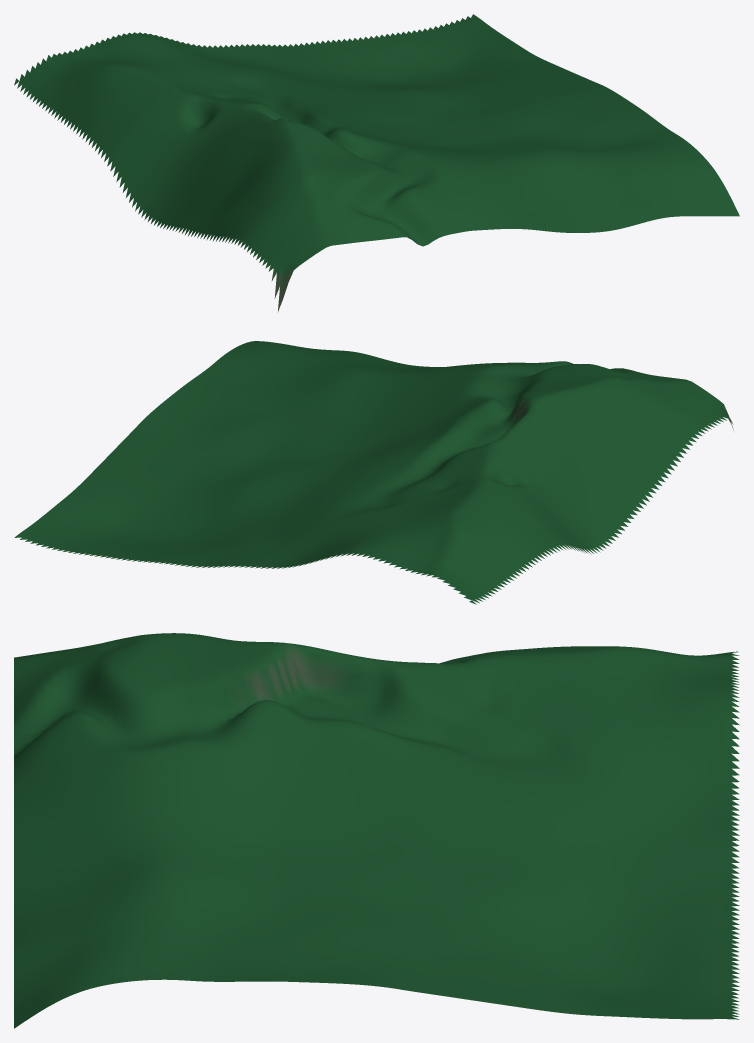
Rendered from payo_land_xm2_ym1.glb.
The picture shows the model from 3 angles, top to bottom: view 1: azimuth 30°, elevation 25°; view 2: azimuth 150°, elevation 25°; view 3: azimuth 270°, elevation 25°; orthographic projection. The views are drawn at different scales.
Parts seen in each view (by area): view 1: payo_land_xm2_ym1; view 2: payo_land_xm2_ym1; view 3: payo_land_xm2_ym1.
Part boxes in pixels (<box>): payo_land_xm2_ym1: <box>14,14,739,312</box>; payo_land_xm2_ym1: <box>14,341,733,604</box>; payo_land_xm2_ym1: <box>14,633,739,1028</box>.
Bounding box in the file's own units: 258 × 58.82 × 258.
